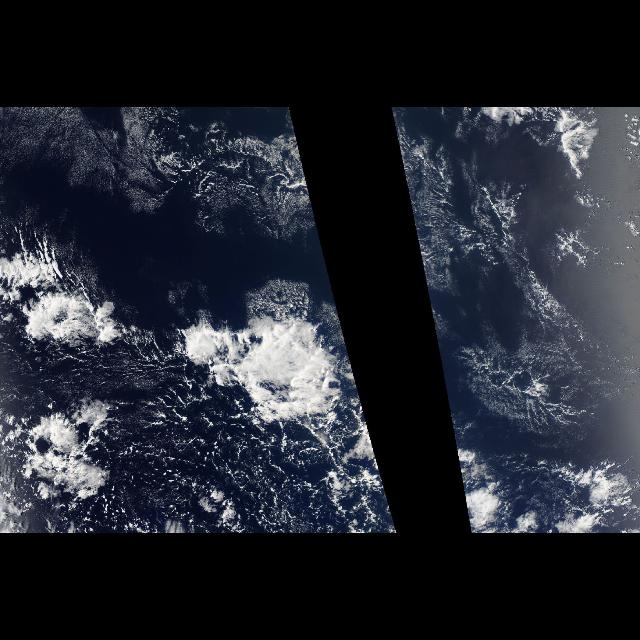Sugar: (102, 353, 360, 531), (18, 114, 326, 252), (440, 263, 638, 461), (392, 114, 632, 252)
